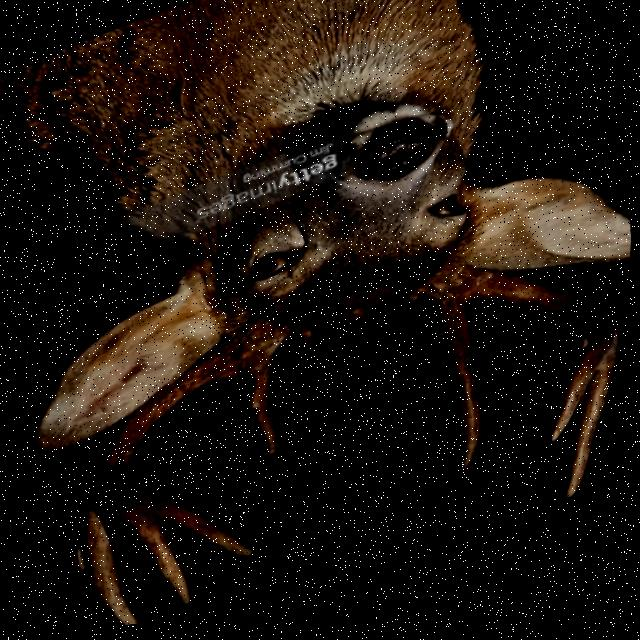L-F: (88, 322, 302, 565)
L-G1: (243, 354, 282, 461)
R-F: (415, 266, 621, 456)
R-G1: (431, 307, 485, 483)
